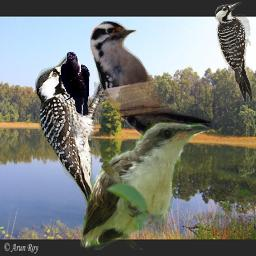Crow: (60, 51, 90, 117)
Cuckoo: (79, 121, 206, 250)
Woodpecker: (90, 21, 212, 151), (35, 55, 115, 228), (215, 2, 254, 103)
